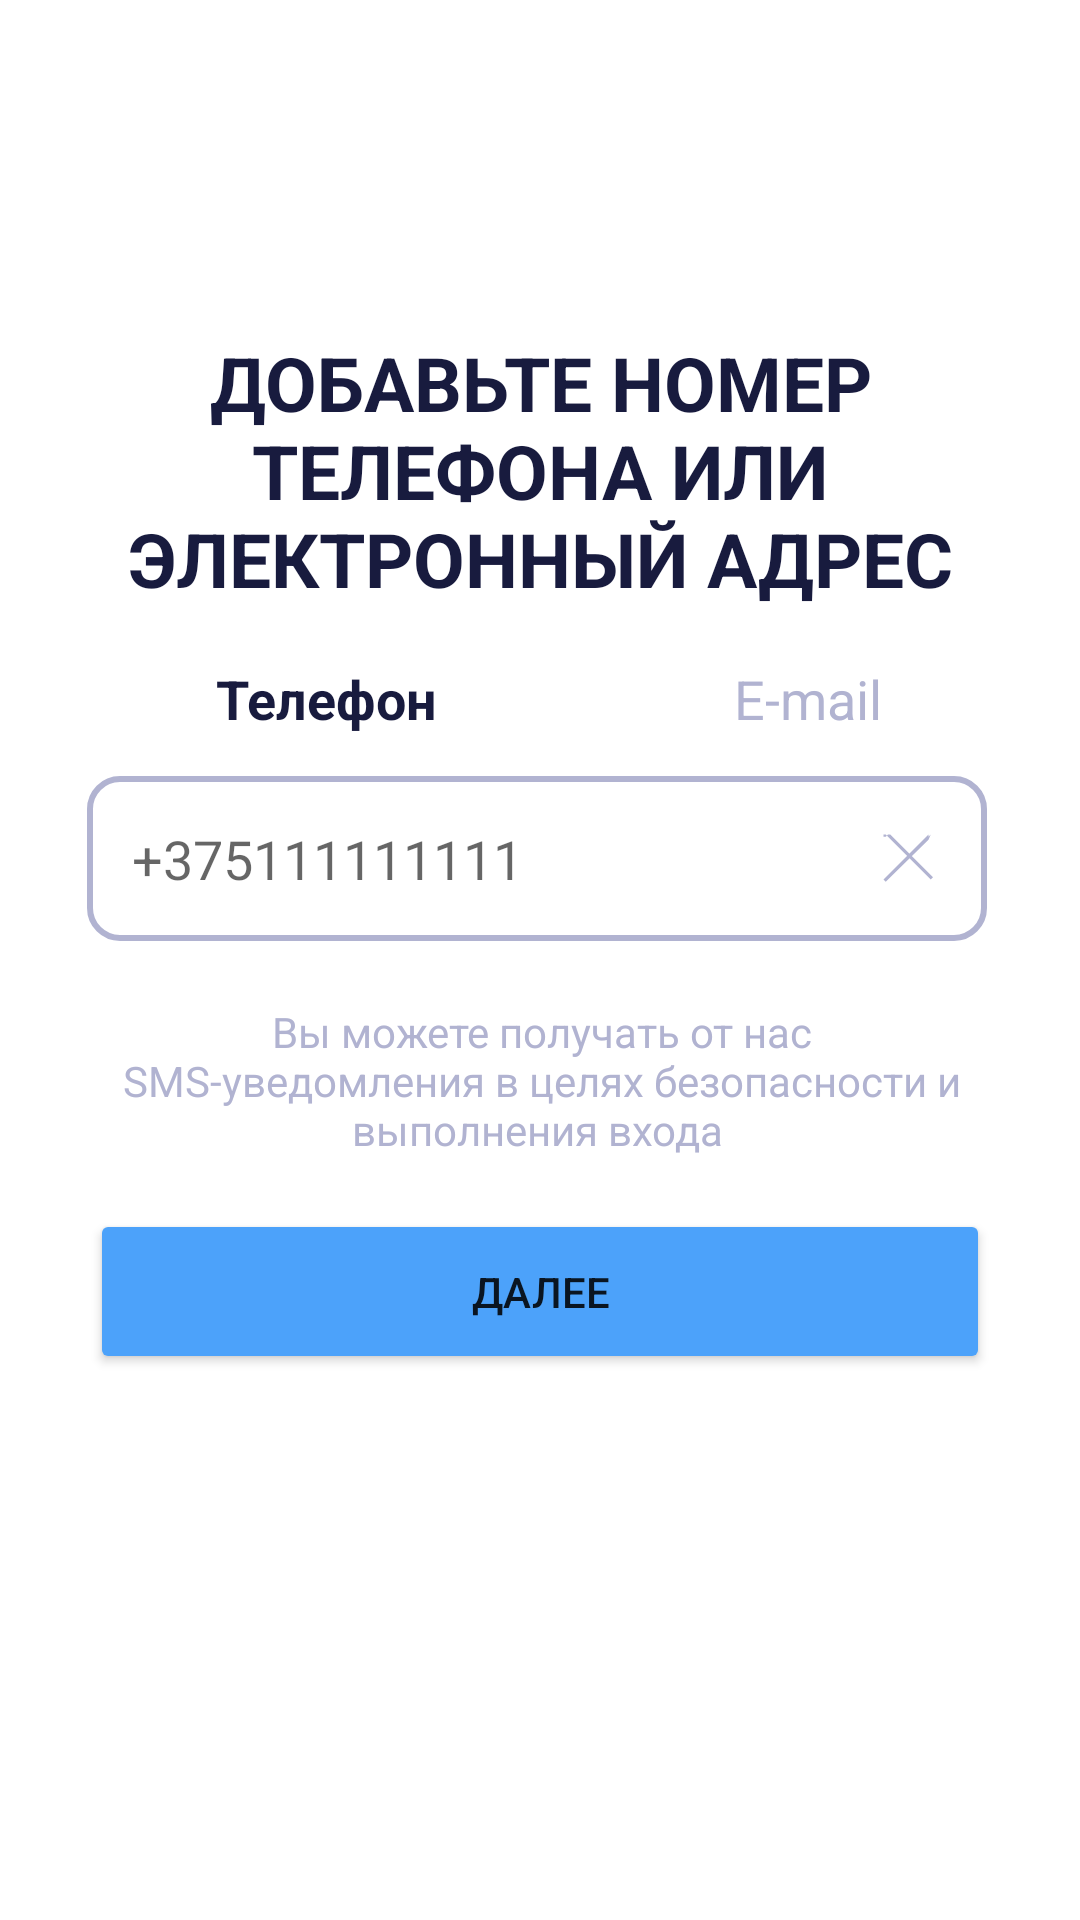

Locate icon controls on the screen. Image size 1080w x 1920h, boxes as (x1, y1, x2, y2).
Clear: (883, 834, 933, 882)
